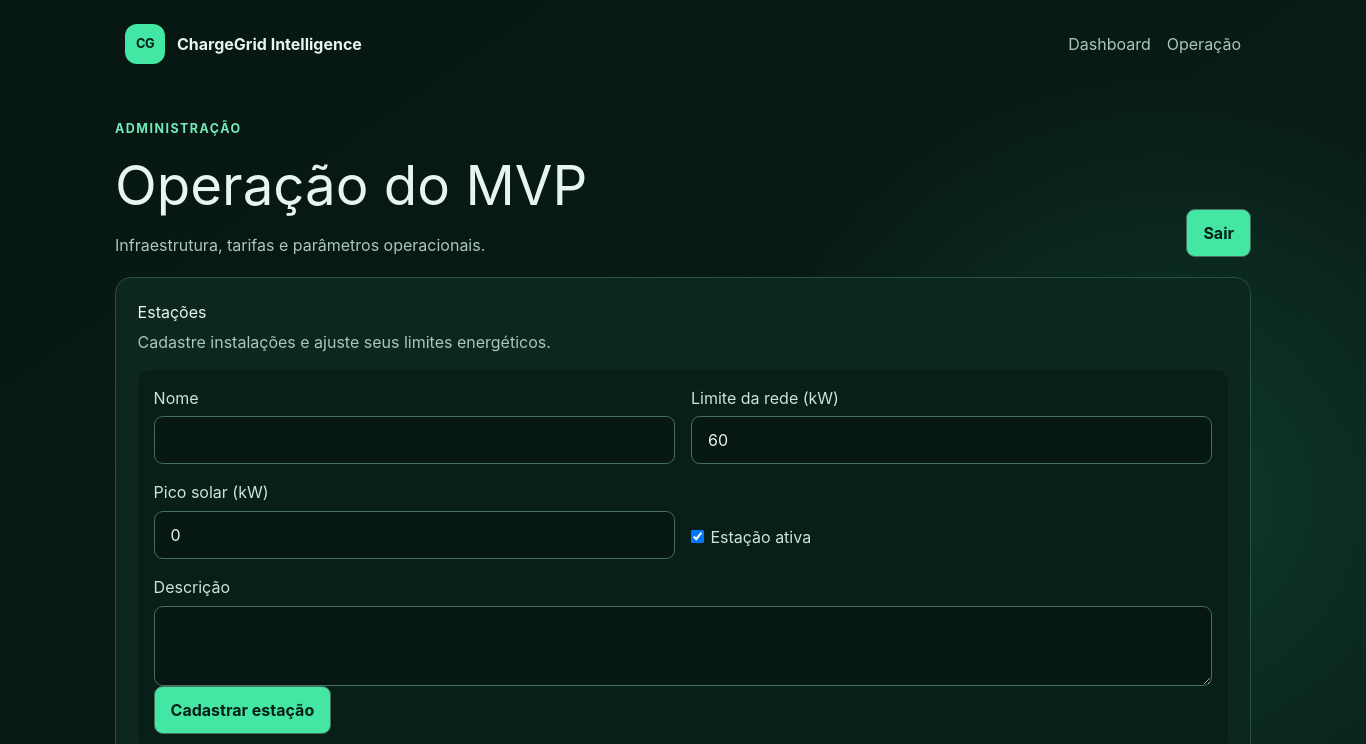
Test: admin operations authorization and rendering › shows API validation and conflict messages near the form
Expected: the heading "Estações" is shown, [138,302,206,322]
Type "Central" into the field labelled "Nome". click: (414, 440)
box: [154,416,675,464]
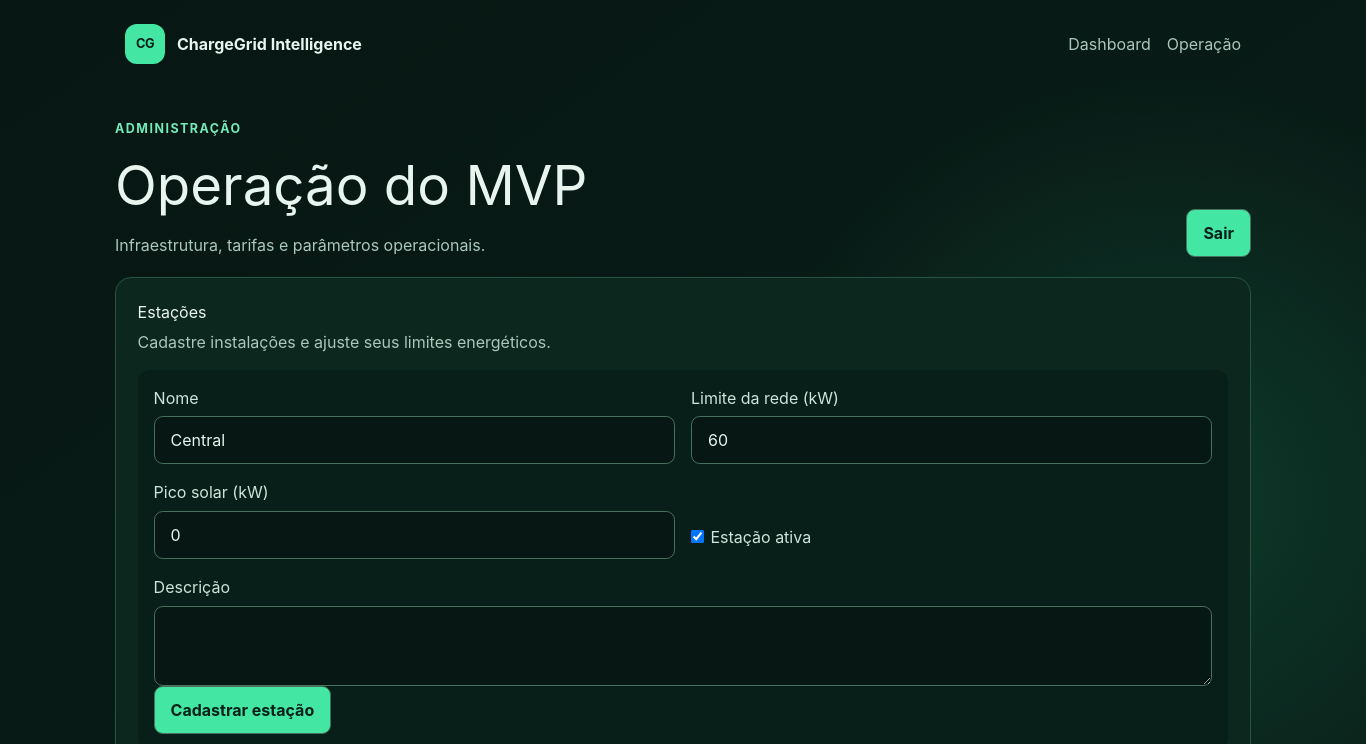
Click the button "Cadastrar estação". click: (242, 710)
box: [154,686,331,734]
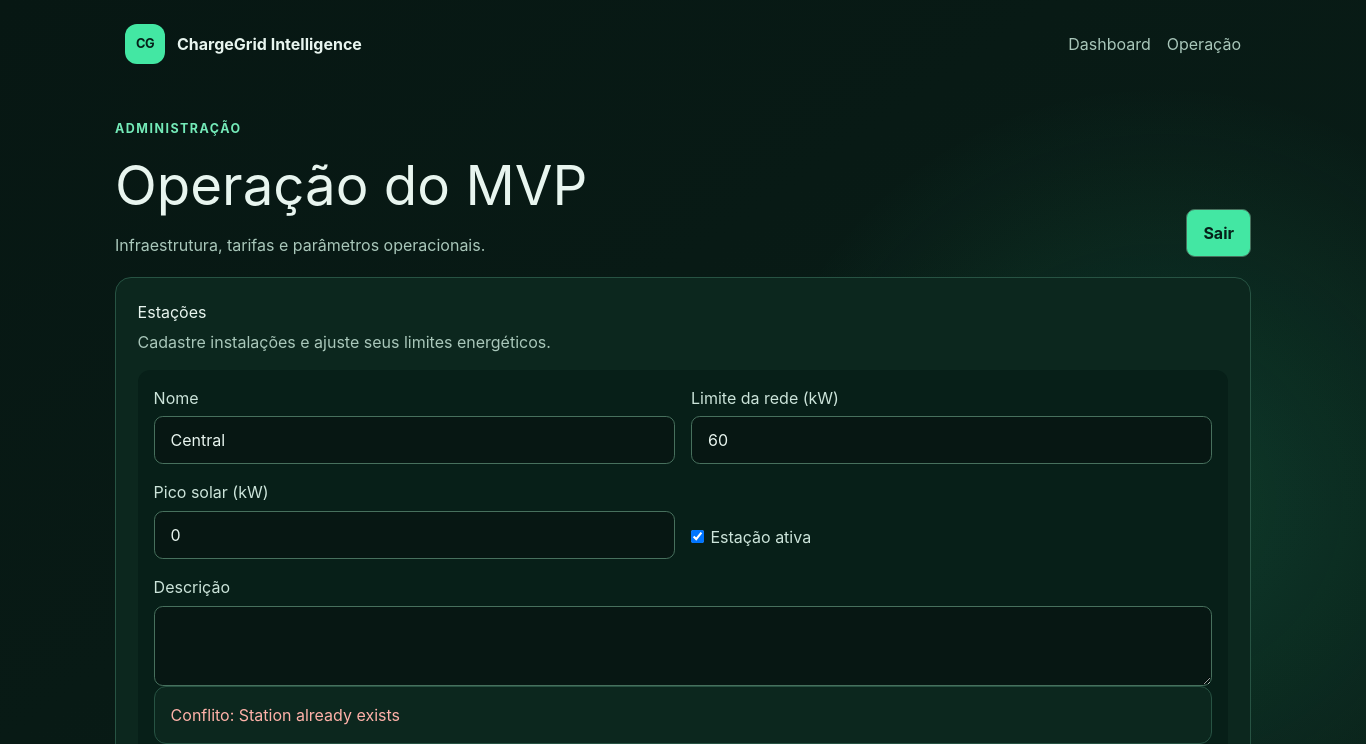
Expected: the message reads "Conflito: Station already exists", [171,705,400,725]
